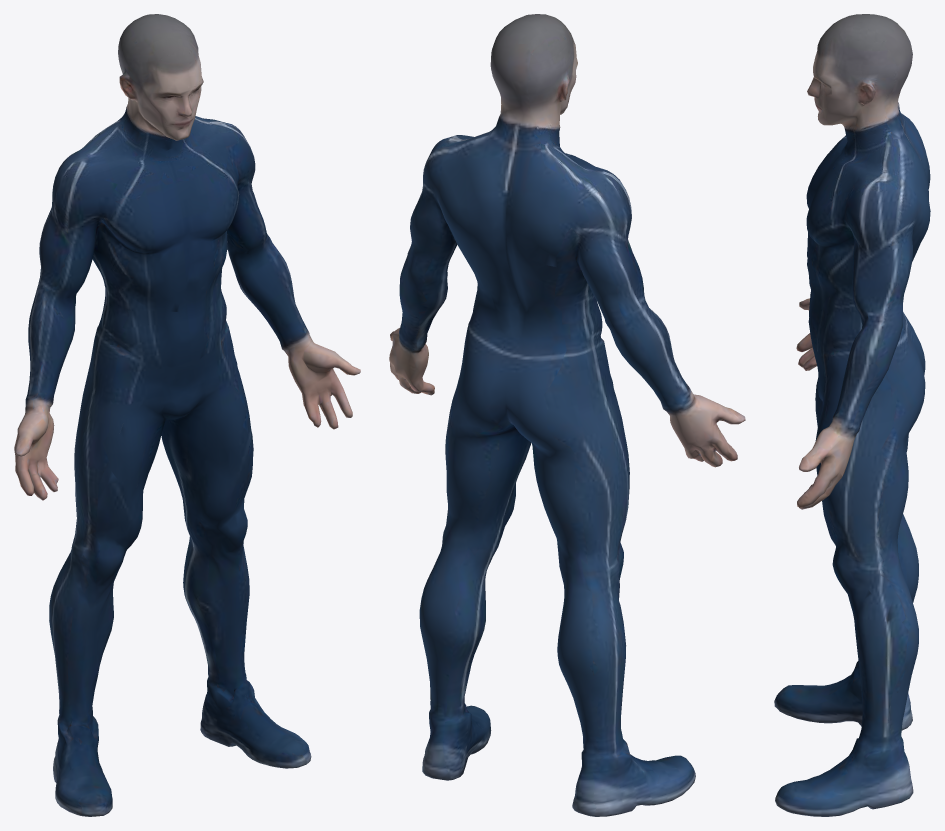
File: base_body_m.glb
3 renders of one model, left to right at view 1: azimuth 30°, elevation 25°; view 2: azimuth 150°, elevation 25°; view 3: azimuth 270°, elevation 25°, orthographic. The views are drawn at different scales.
Parts seen in each view (by area): view 1: base_body_m; view 2: base_body_m; view 3: base_body_m.
Part boxes in pixels (x1=…): base_body_m: x1=14, y1=14, x2=360, y2=816; base_body_m: x1=389, y1=14, x2=745, y2=816; base_body_m: x1=774, y1=14, x2=930, y2=816.
Size of the model in its own units: 0.8929 by 1.85 by 0.3512.
1 material, 1 textured.
